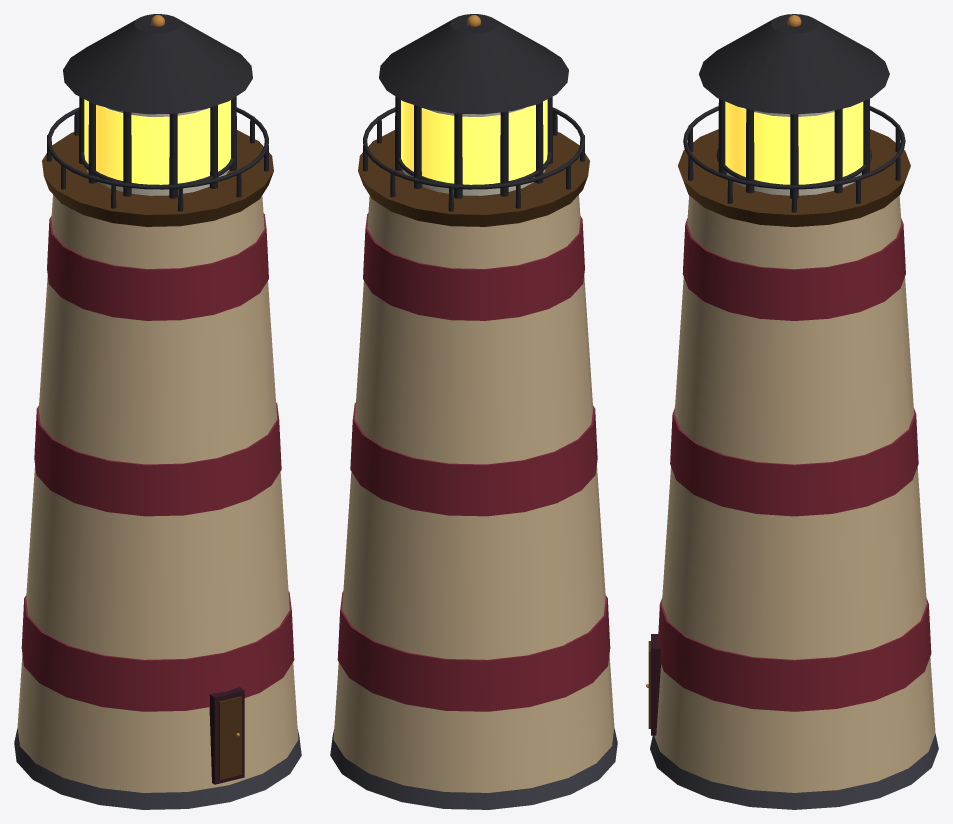
File: mia-lighthouse.glb
3 views of the same model, side by side, from view 1: azimuth 30°, elevation 25°; view 2: azimuth 150°, elevation 25°; view 3: azimuth 270°, elevation 25° (orthographic).
Visible parts, largest first — view 1: Body_ivory, Body_velvet, Body_iron, Body_wood, Body_amber, Body_stone, Body_dark, Body_mattress; view 2: Body_ivory, Body_velvet, Body_iron, Body_wood, Body_amber, Body_stone, Body_mattress; view 3: Body_ivory, Body_velvet, Body_iron, Body_wood, Body_amber, Body_stone, Body_dark, Body_mattress.
Boxes of the visible parts, x1,y1,x2,y2 form: Body_ivory: (17, 195, 298, 792); Body_velvet: (21, 213, 294, 711); Body_iron: (46, 14, 269, 211); Body_wood: (42, 130, 273, 779); Body_amber: (84, 99, 230, 184); Body_stone: (14, 728, 301, 809); Body_dark: (209, 687, 244, 784); Body_mattress: (86, 107, 229, 195); Body_ivory: (333, 195, 614, 792); Body_velvet: (337, 213, 610, 711); Body_iron: (362, 14, 585, 211); Body_wood: (358, 130, 589, 226); Body_amber: (401, 99, 547, 184); Body_stone: (330, 728, 617, 809); Body_mattress: (402, 107, 545, 195); Body_ivory: (654, 195, 935, 792); Body_velvet: (658, 218, 931, 711); Body_iron: (683, 14, 905, 212); Body_wood: (648, 129, 910, 728); Body_amber: (725, 101, 863, 184); Body_stone: (650, 733, 938, 809); Body_dark: (651, 634, 660, 735); Body_mattress: (726, 108, 861, 195).
Size of the model in its own units: 4.14 by 11.58 by 4.19.
